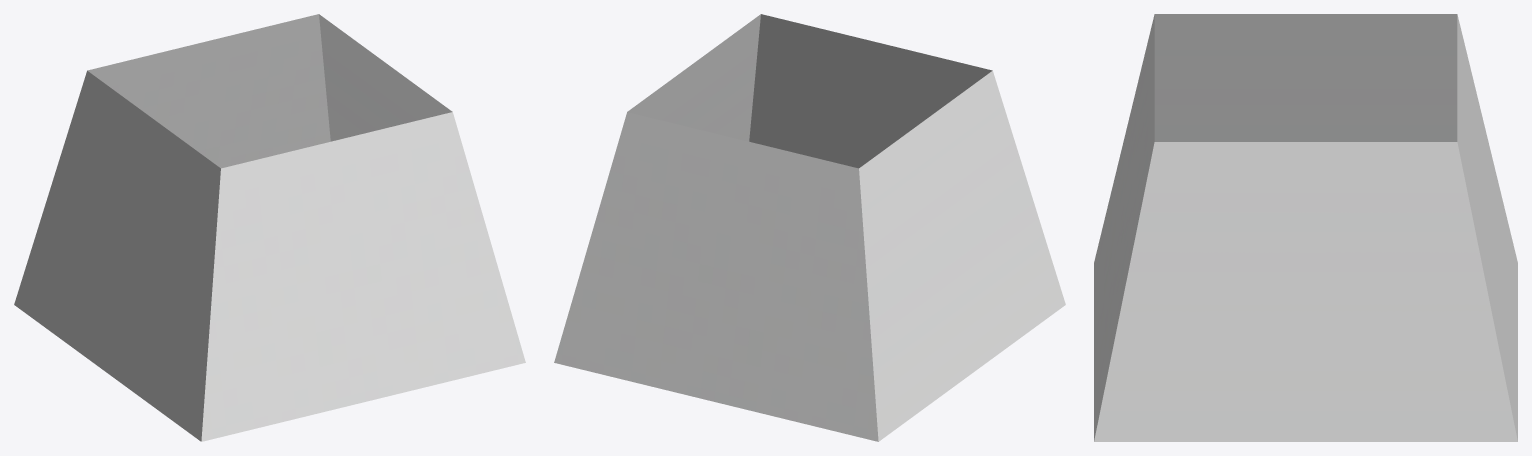
The model's file is GodRayFrustum.fbx.
The picture shows the model from 3 angles, left to right: view 1: azimuth 30°, elevation 25°; view 2: azimuth 150°, elevation 25°; view 3: azimuth 270°, elevation 25°; orthographic projection. The views are drawn at different scales.
Parts seen in each view (by area): view 1: GodRayFrustumMesh; view 2: GodRayFrustumMesh; view 3: GodRayFrustumMesh.
Part boxes in pixels (left/top/right/bottom): GodRayFrustumMesh: left=14, top=14, right=525, bottom=441; GodRayFrustumMesh: left=554, top=14, right=1065, bottom=441; GodRayFrustumMesh: left=1094, top=14, right=1517, bottom=441.
Size of the model in its own units: 280 by 200 by 280.
